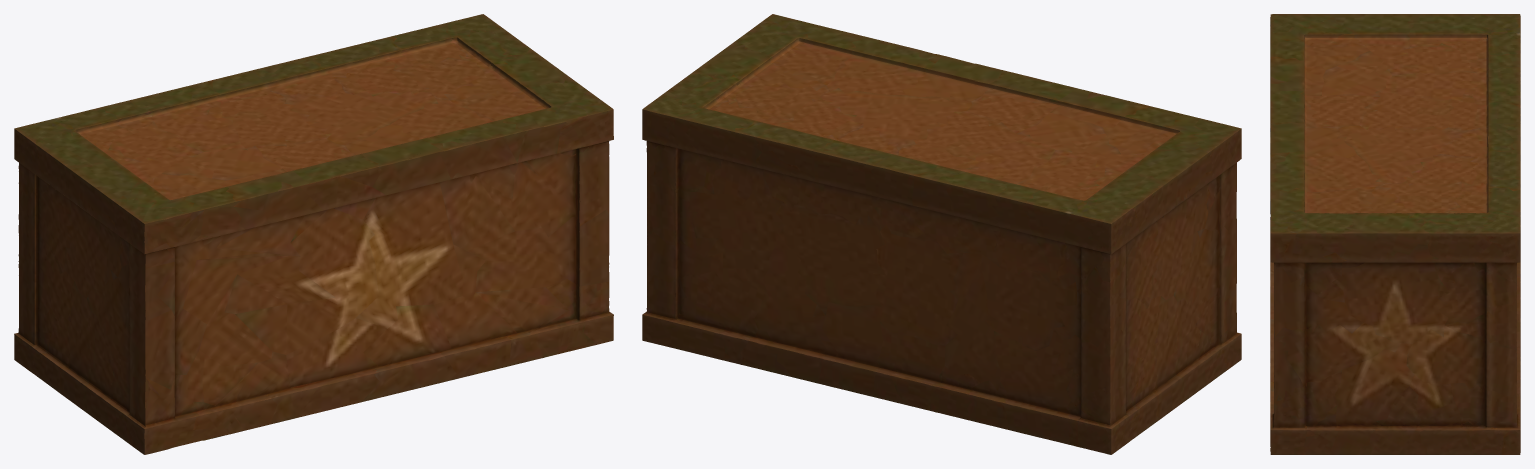
Rendered from p_caja.glb.
3 renders of one model, left to right at view 1: azimuth 30°, elevation 25°; view 2: azimuth 150°, elevation 25°; view 3: azimuth 270°, elevation 25°, orthographic. The views are drawn at different scales.
Size of the model in its own units: 1.9 by 0.8953 by 0.915.
Materials: 1 (1 with a texture image).
